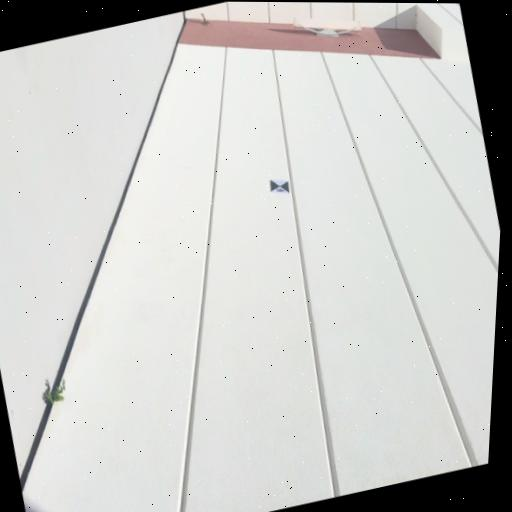target4: (270, 179, 290, 193)
